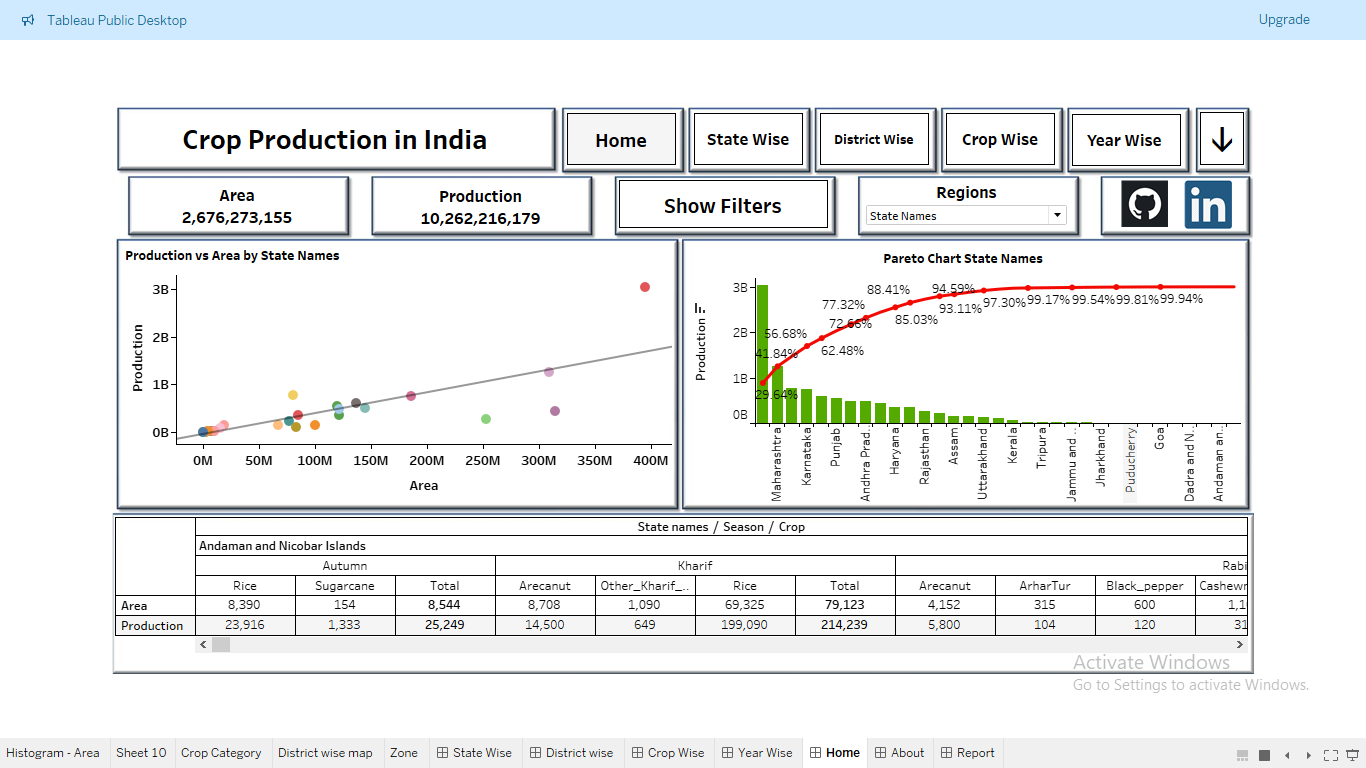

This screenshot's page, from the dashboard's own definition file:
{"tool":"tableau","page":{"name":"Home","canvas":[1150,600],"ordinal":3},"visuals":[{"type":"image","param":"Image/CPII 1.jpg","box":[0,0,1150,600]},{"type":"text","box":[14,23,426,52]},{"type":"dashboard-object","box":[1092,23,44,53]},{"type":"dashboard-object","box":[459,24,109,52]},{"type":"dashboard-object","box":[586,24,109,52]},{"type":"dashboard-object","box":[712,24,109,52]},{"type":"dashboard-object","box":[838,24,109,52]},{"type":"dashboard-object","box":[964,25,109,52]},{"type":"dashboard-object","box":[981,79,157,57]},{"type":"image","param":"Image/linkedin.png","box":[1065,90,70,50]},{"type":"worksheet","title":"KPI","mark":"Automatic","box":[24,91,210,50]},{"type":"dashboard-object","box":[511,91,209,48]},{"type":"image","param":"Image/github-6980894_1920.png","box":[1011,91,51,47]},{"type":"worksheet","title":"KPI ","mark":"Automatic","box":[267,92,211,48]},{"type":"parameter","param":"[Parameters].[Parameter 1]","box":[755,92,207,46]},{"type":"dashboard-object","box":[981,136,157,57]},{"type":"filter","title":"Production vs Area by","param":"[federated.1tu41g31wm18641arbtzr10wprao].[none:Zone:nk]","box":[512,139,209,84]},{"type":"worksheet","title":"Production vs Area by","mark":"Circle","rows":["Production"],"cols":["Area"],"box":[13,153,551,259]},{"type":"worksheet","title":"Sheet 13","mark":"Automatic","rows":["Production","Production"],"cols":["Calculation_311592810544599043"],"box":[577,156,556,258]},{"type":"filter","title":"Production vs Area by","param":"[federated.1tu41g31wm18641arbtzr10wprao].[none:Calculation_311592810542178305:nk","box":[512,223,209,84]},{"type":"filter","title":"Production vs Area by","param":"[federated.1tu41g31wm18641arbtzr10wprao].[none:Crop_Year:qk]","box":[512,307,209,84]},{"type":"filter","title":"Production vs Area by","param":"[federated.1tu41g31wm18641arbtzr10wprao].[none:Crop_Category:nk]","box":[512,391,209,84]},{"type":"worksheet","title":"Table","mark":"Automatic","cols":["Calculation_311592810542178305","Season","Crop"],"box":[7,428,1133,151]},{"type":"filter","title":"Production vs Area by","param":"[federated.1tu41g31wm18641arbtzr10wprao].[none:Crop:nk]","box":[512,475,209,83]}]}

Visuals, with their boxes on the page's 1150x600 design canvas (x1, y1, x2, y2). These are canvas units, not pixel positions in the 1366x768 screenshot, which may show the page scaled, cropped or inside an application window:
image: Rect(0, 0, 1150, 600)
text: Rect(14, 23, 440, 75)
dashboard-object: Rect(1092, 23, 1136, 76)
dashboard-object: Rect(459, 24, 568, 76)
dashboard-object: Rect(586, 24, 695, 76)
dashboard-object: Rect(712, 24, 821, 76)
dashboard-object: Rect(838, 24, 947, 76)
dashboard-object: Rect(964, 25, 1073, 77)
dashboard-object: Rect(981, 79, 1138, 136)
image: Rect(1065, 90, 1135, 140)
"KPI" worksheet: Rect(24, 91, 234, 141)
dashboard-object: Rect(511, 91, 720, 139)
image: Rect(1011, 91, 1062, 138)
"KPI " worksheet: Rect(267, 92, 478, 140)
parameter: Rect(755, 92, 962, 138)
dashboard-object: Rect(981, 136, 1138, 193)
"Production vs Area by" filter: Rect(512, 139, 721, 223)
"Production vs Area by" worksheet (Circle marks): Rect(13, 153, 564, 412)
"Sheet 13" worksheet: Rect(577, 156, 1133, 414)
"Production vs Area by" filter: Rect(512, 223, 721, 307)
"Production vs Area by" filter: Rect(512, 307, 721, 391)
"Production vs Area by" filter: Rect(512, 391, 721, 475)
"Table" worksheet: Rect(7, 428, 1140, 579)
"Production vs Area by" filter: Rect(512, 475, 721, 558)
